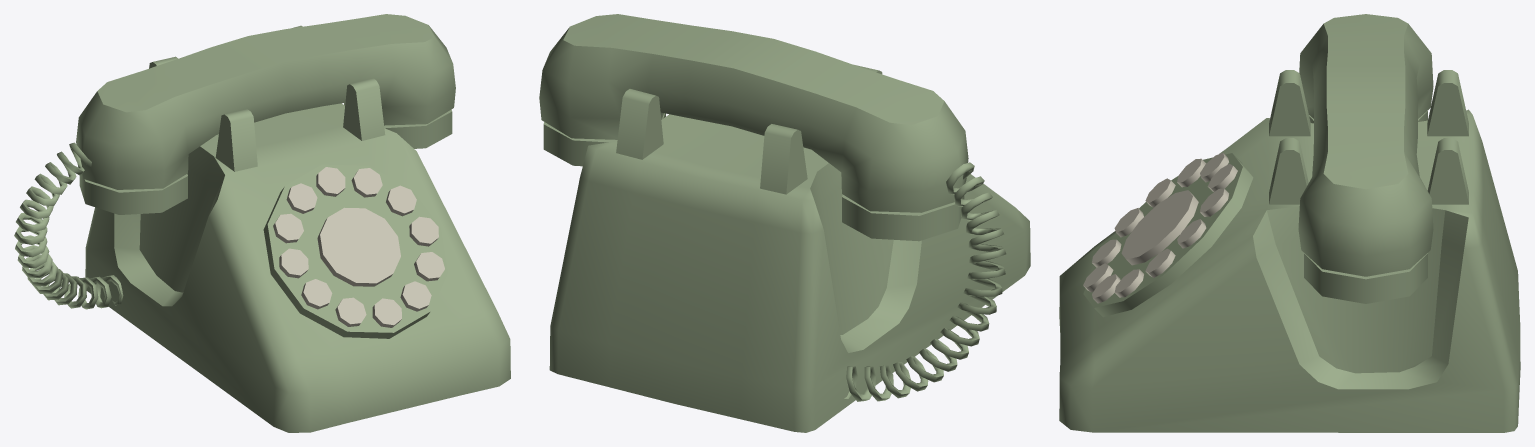
Rendered from RotaryPhone_01.fbx.
3 renders of one model, left to right at view 1: azimuth 30°, elevation 25°; view 2: azimuth 150°, elevation 25°; view 3: azimuth 270°, elevation 25°, orthographic. The views are drawn at different scales.
Visible parts, largest first — view 1: RotaryPhone_01; view 2: RotaryPhone_01; view 3: RotaryPhone_01.
Boxes of the visible parts, <box> form: RotaryPhone_01: <box>14,14,510,432</box>; RotaryPhone_01: <box>539,14,1030,432</box>; RotaryPhone_01: <box>1059,14,1520,432</box>.
Bounding box in the file's own units: 0.3392 × 0.2008 × 0.2937.
